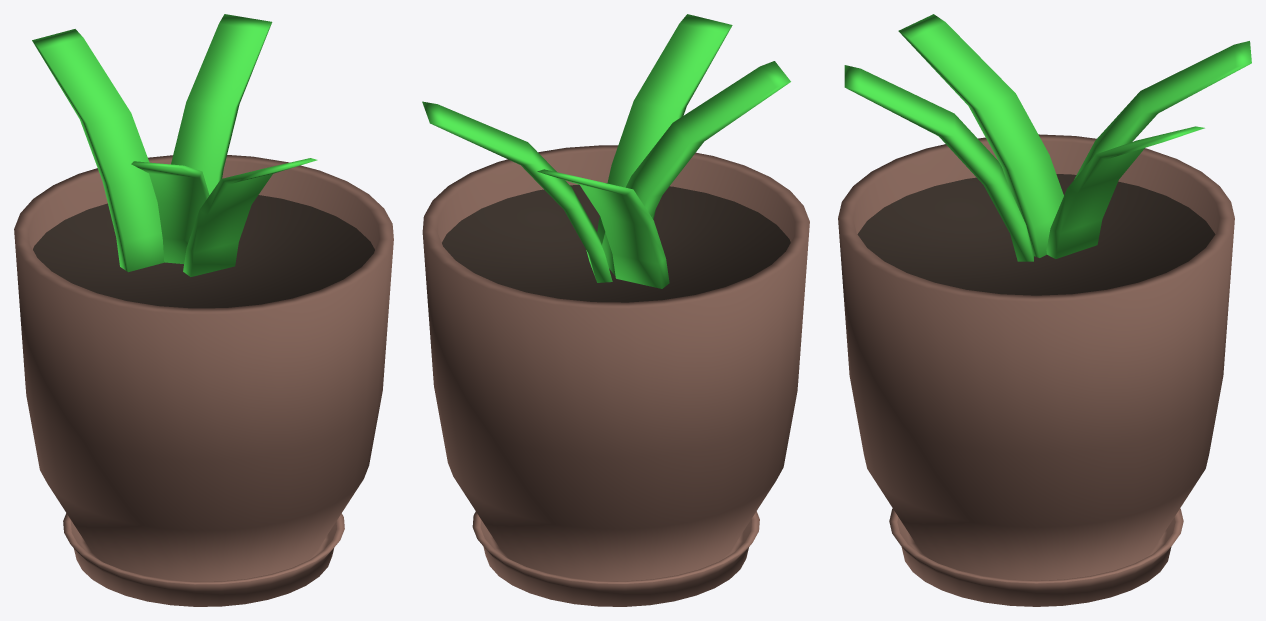
The model's file is GrassPot.fbx.
3 renders of one model, left to right at view 1: azimuth 30°, elevation 25°; view 2: azimuth 150°, elevation 25°; view 3: azimuth 270°, elevation 25°, orthographic. The views are drawn at different scales.
Parts seen in each view (by area): view 1: Cylinder, Cube.002, Cube.003, Cube, Cube.001; view 2: Cylinder, Cube, Cube.001, Cube.002, Cube.003; view 3: Cylinder, Cube.001, Cube, Cube.003, Cube.002.
Boxes of the visible parts, left/top/right/bottom form: Cylinder: left=14, top=155, right=393, bottom=606; Cube.002: left=32, top=29, right=164, bottom=272; Cube.003: left=171, top=14, right=272, bottom=194; Cube: left=183, top=158, right=317, bottom=276; Cube.001: left=131, top=161, right=209, bottom=263; Cylinder: left=422, top=145, right=809, bottom=606; Cube: left=597, top=14, right=732, bottom=244; Cube.001: left=602, top=61, right=790, bottom=275; Cube.002: left=537, top=169, right=669, bottom=288; Cube.003: left=422, top=101, right=612, bottom=282; Cylinder: left=838, top=134, right=1234, bottom=606; Cube.001: left=898, top=14, right=1063, bottom=257; Cube: left=844, top=65, right=1033, bottom=261; Cube.003: left=1046, top=126, right=1204, bottom=258; Cube.002: left=1074, top=41, right=1251, bottom=179.
Bounding box in the file's own units: 276 × 364 × 288.
